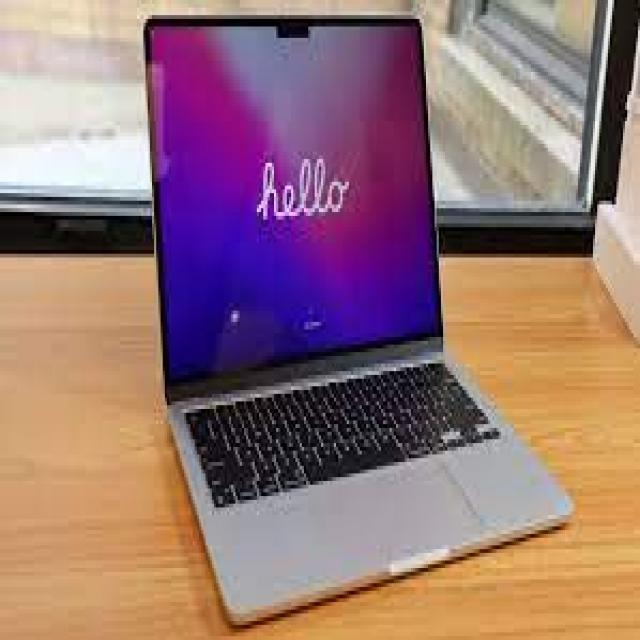others: (131, 11, 580, 629)
